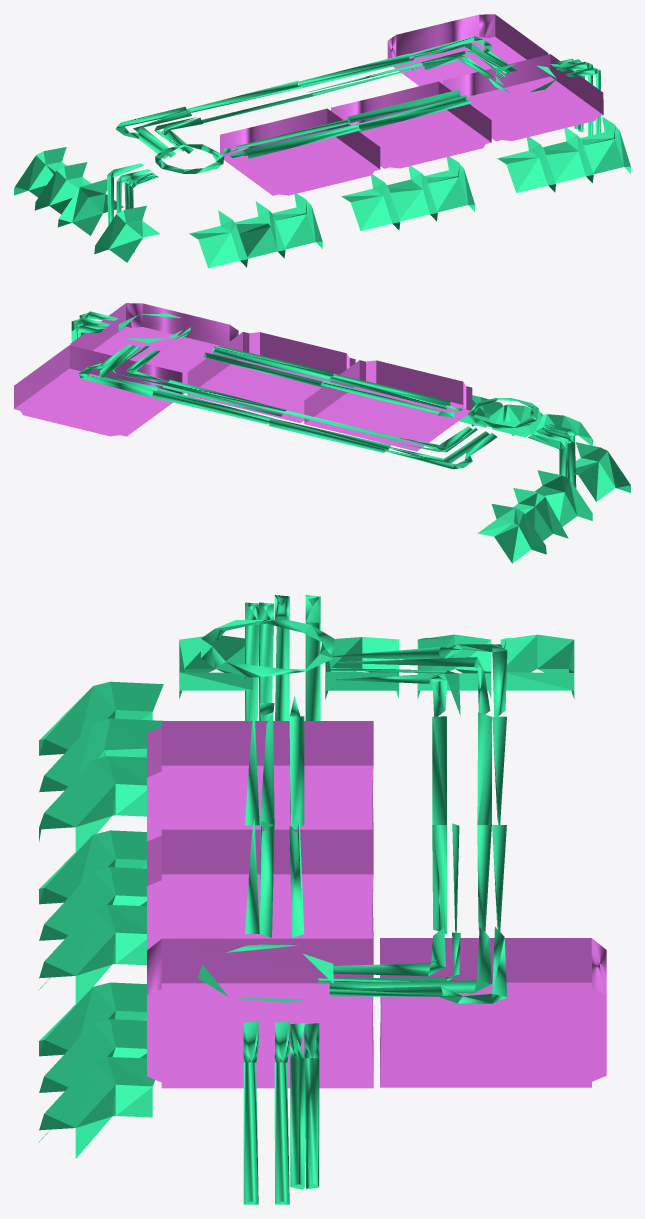
File: backdrop_top_a_lod2.glb
The picture shows the model from 3 angles, top to bottom: view 1: azimuth 30°, elevation 25°; view 2: azimuth 150°, elevation 25°; view 3: azimuth 270°, elevation 25°; orthographic projection. The views are drawn at different scales.
Bounding box in the file's own units: 267 × 40.88 × 129.
